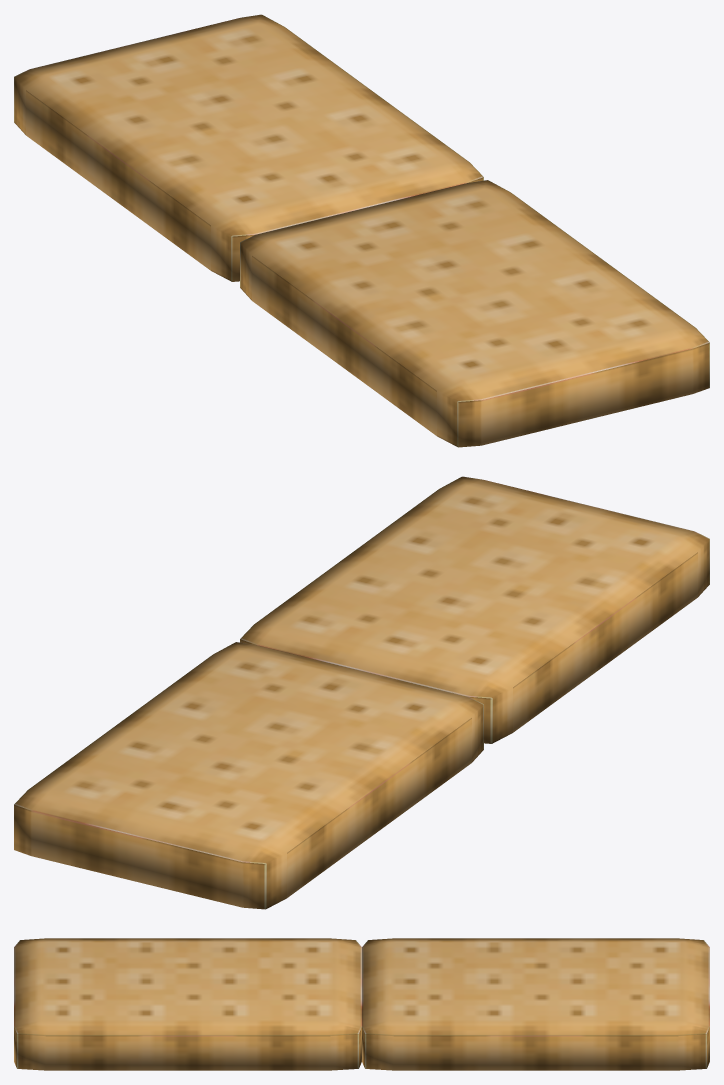
The model's file is SM_CookieSurfBoard.fbx.
The picture shows the model from 3 angles, top to bottom: view 1: azimuth 30°, elevation 25°; view 2: azimuth 150°, elevation 25°; view 3: azimuth 270°, elevation 25°; orthographic projection. The views are drawn at different scales.
Parts seen in each view (by area): view 1: CookieBoard; view 2: CookieBoard; view 3: CookieBoard.
Part boxes in pixels (x1,y1,x2,y2): CookieBoard: (14, 14, 709, 447); CookieBoard: (14, 476, 709, 909); CookieBoard: (14, 938, 709, 1070).
Bounding box in the file's own units: 191 × 41 × 577.
